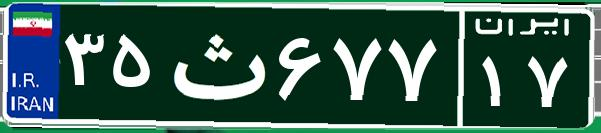1: (475, 38, 525, 113)
3: (57, 26, 110, 107)
5: (110, 28, 158, 105)
6: (273, 28, 330, 110)
7: (385, 28, 445, 110), (330, 28, 385, 110), (525, 38, 570, 115)
ث: (158, 15, 273, 115)
